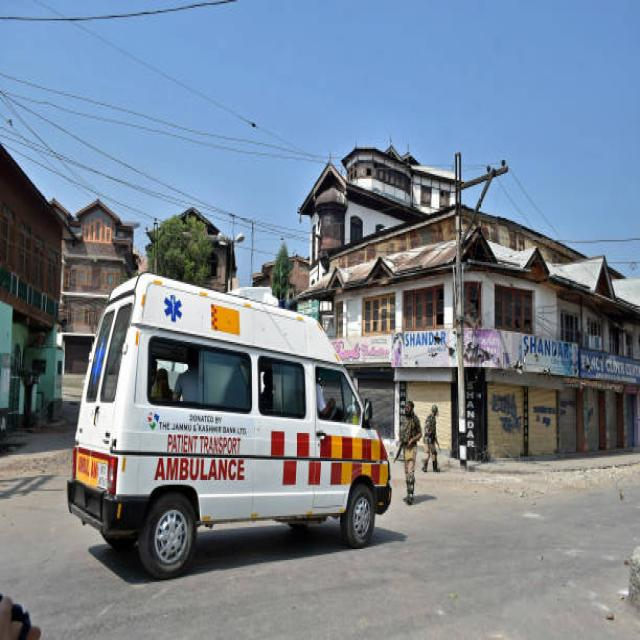ambulance: (68, 271, 392, 579)
